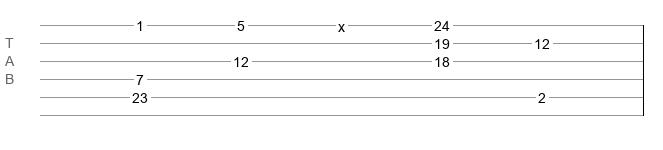1: (136, 18, 144, 28)
12: (233, 54, 249, 64), (534, 36, 550, 46)
18: (434, 54, 450, 64)
19: (434, 36, 450, 46)
2: (538, 90, 546, 100)
23: (132, 90, 148, 100)
24: (434, 18, 450, 28)
5: (237, 18, 245, 28)
7: (136, 72, 144, 82)
x: (338, 19, 345, 27)
